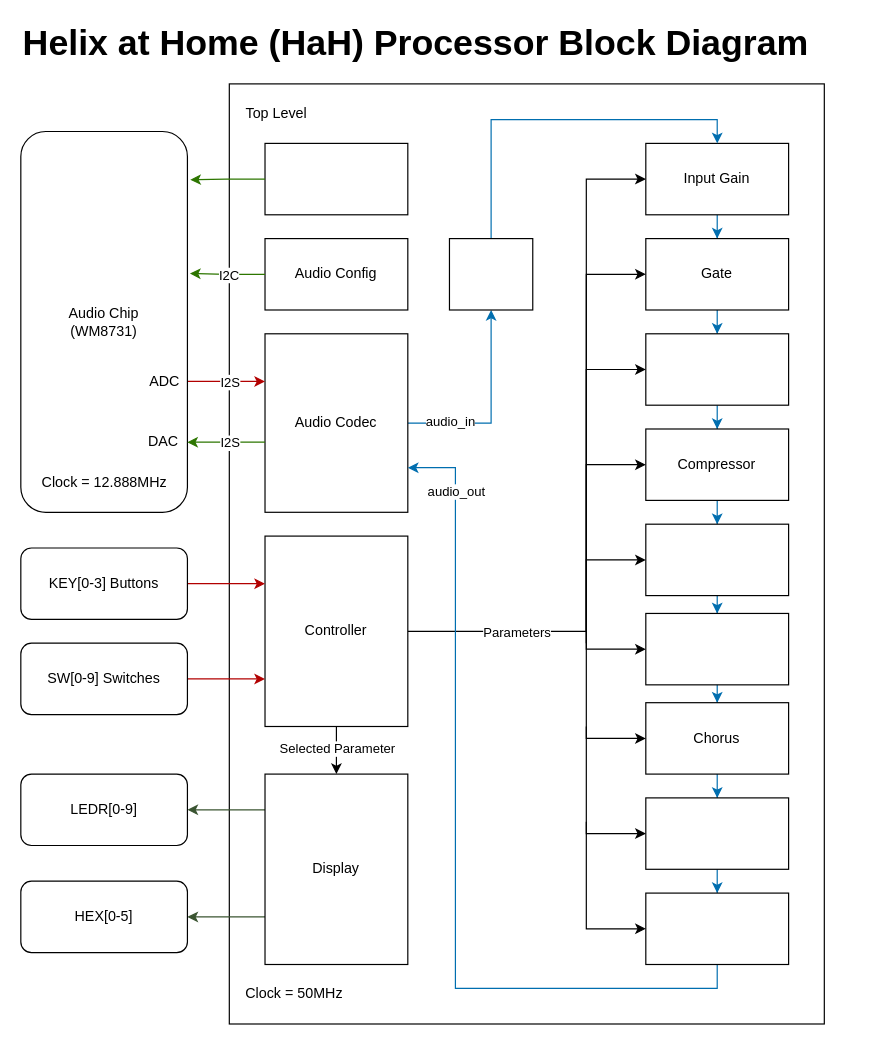
Image size: 887x1045. Some labels were removed from this diagram. Each missing label, with the centre of its shape:
Audio PLL: (x=336, y=178)
Delay: (x=717, y=833)
Distortion: (x=717, y=559)
EQ1: (x=717, y=369)
EQ2: (x=717, y=648)
Reverb: (x=717, y=928)
stereo converter: (x=490, y=273)
